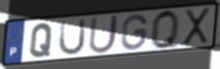G: (120, 13, 150, 52)
Q: (150, 8, 180, 51), (28, 22, 55, 59)
U: (87, 13, 121, 55), (57, 17, 88, 58)
X: (182, 7, 211, 48)
